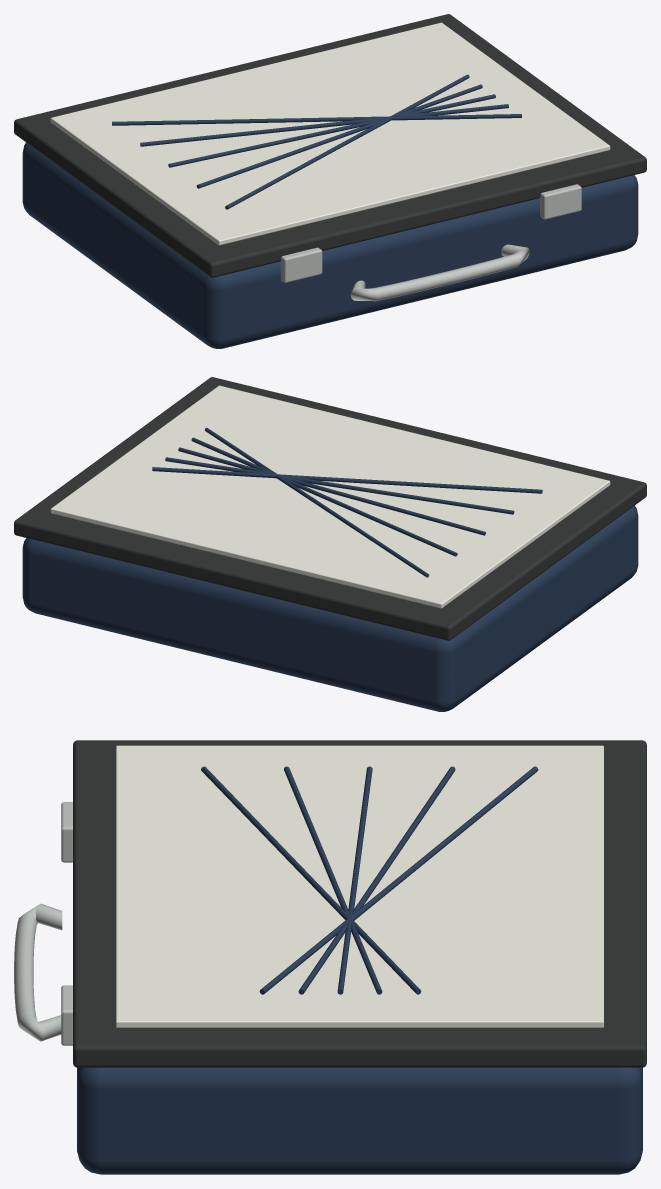
The model's file is star_chart.glb.
3 views of the same model, one above another, from view 1: azimuth 30°, elevation 25°; view 2: azimuth 150°, elevation 25°; view 3: azimuth 270°, elevation 25° (orthographic). The views are drawn at different scales.
Visible parts, largest first — view 1: star-chart-drawer_2, star-chart-drawer_3, star-chart-drawer_1, star-chart-drawer_0; view 2: star-chart-drawer_2, star-chart-drawer_3, star-chart-drawer_1; view 3: star-chart-drawer_2, star-chart-drawer_3, star-chart-drawer_1, star-chart-drawer_0.
Part boxes in pixels (bbox=[...]): star-chart-drawer_2: bbox=[50, 22, 610, 245]; star-chart-drawer_3: bbox=[22, 74, 638, 348]; star-chart-drawer_1: bbox=[14, 14, 646, 277]; star-chart-drawer_0: bbox=[281, 184, 581, 301]; star-chart-drawer_2: bbox=[50, 385, 610, 608]; star-chart-drawer_3: bbox=[22, 427, 638, 711]; star-chart-drawer_1: bbox=[14, 377, 646, 640]; star-chart-drawer_2: bbox=[116, 745, 603, 1027]; star-chart-drawer_3: bbox=[77, 766, 642, 1174]; star-chart-drawer_1: bbox=[73, 740, 646, 1067]; star-chart-drawer_0: bbox=[14, 802, 72, 1045].
Size of the model in its own units: 0.748 by 0.172 by 0.6484.
